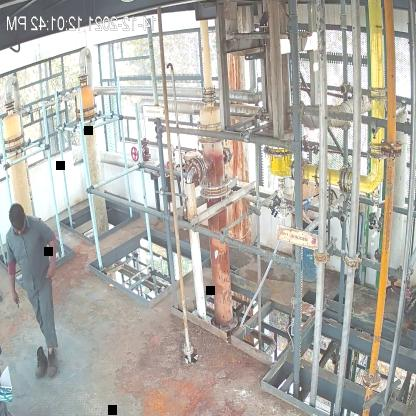shoes: (33, 346, 47, 381), (47, 350, 59, 379)
